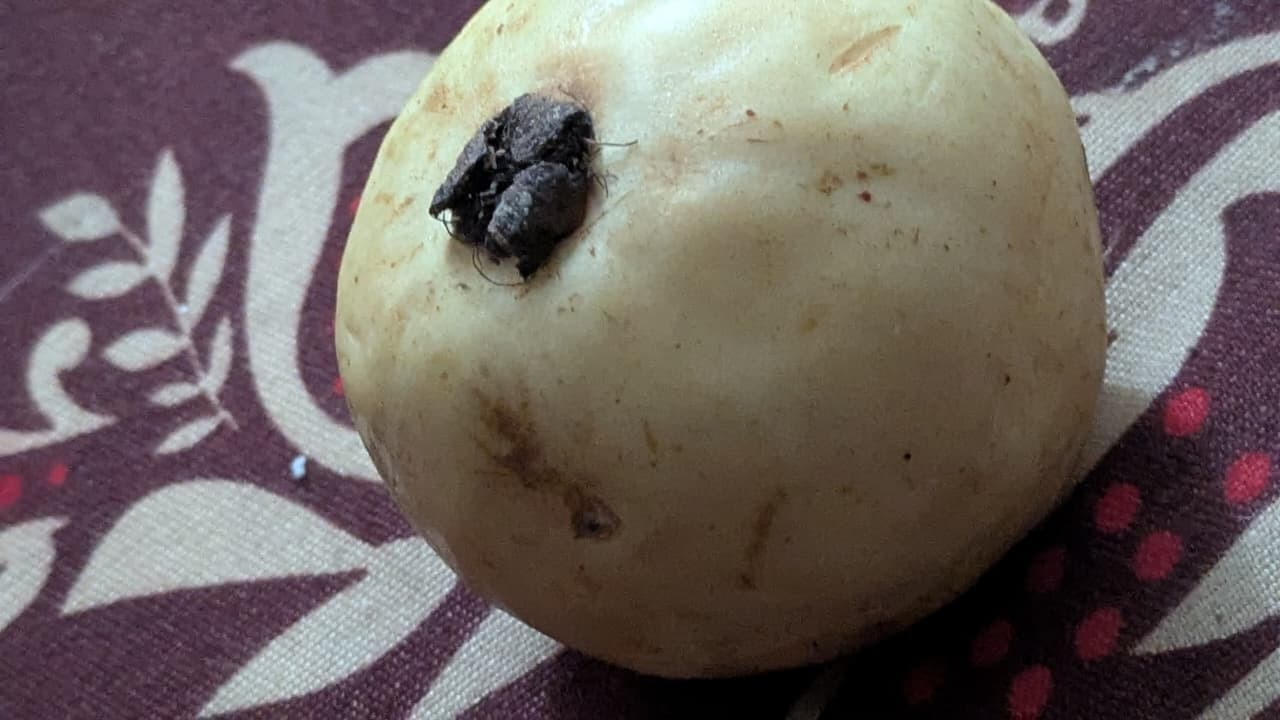guava: (146, 147, 1205, 710)
